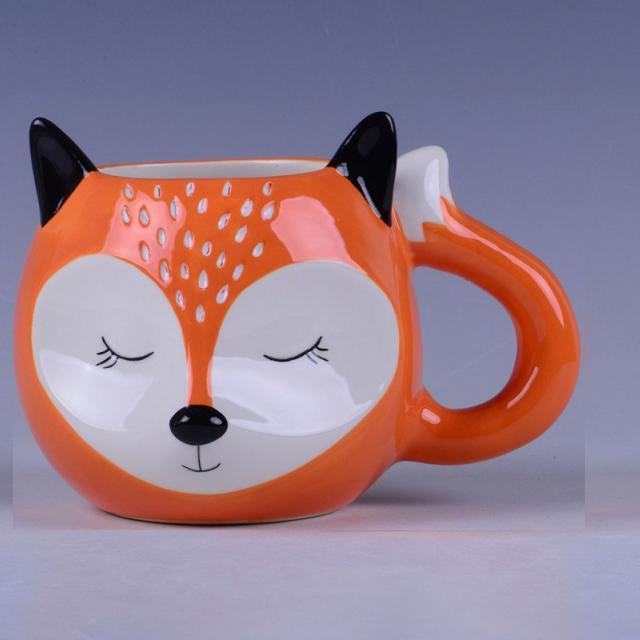Coffee Mug: (14, 106, 579, 528)
